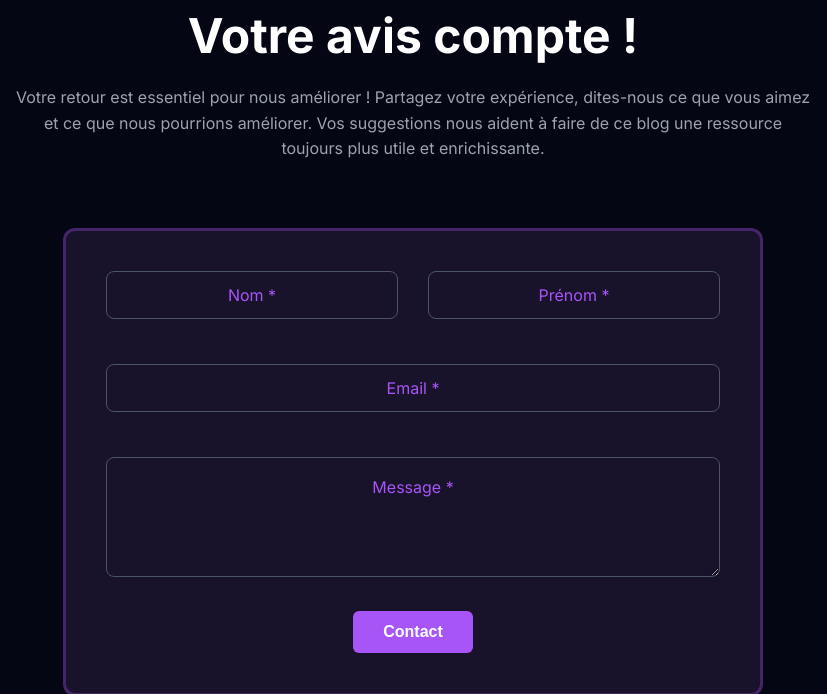
Test case: <Contact> › remercie le visiteur et vide le formulaire après l’envoi
The width and height of the screenshot is (827, 694).
Step 1. Type "Donday" into the field labelled "Nom *" → (252,295), box left=106, top=271, right=398, bottom=319
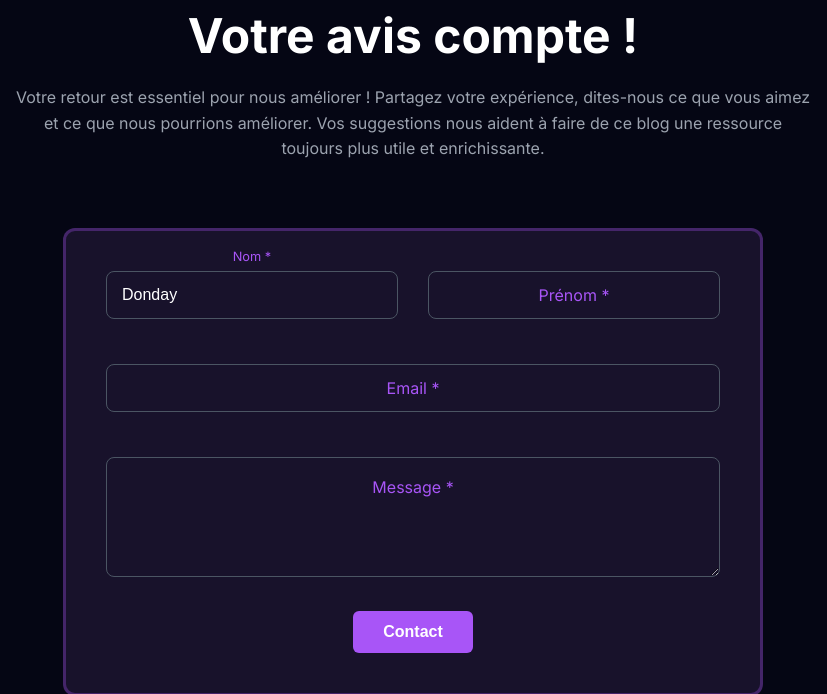
Step 2. Type "Logan" into the field labelled "Prénom *" → (574,295), box left=428, top=271, right=720, bottom=319
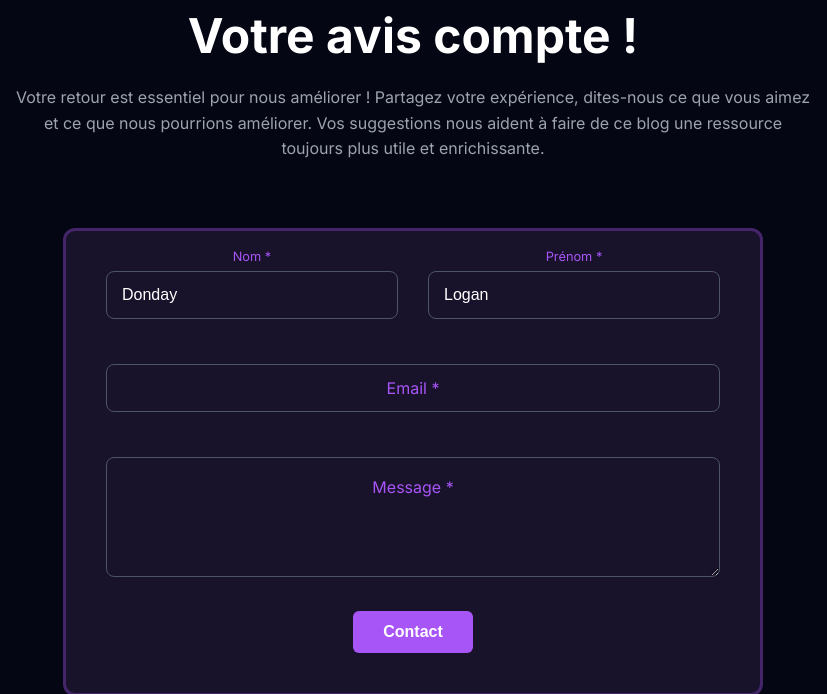
Step 3. Type "logan@weeb.fr" into the field labelled "Email *" → (413,388), box left=106, top=364, right=720, bottom=412
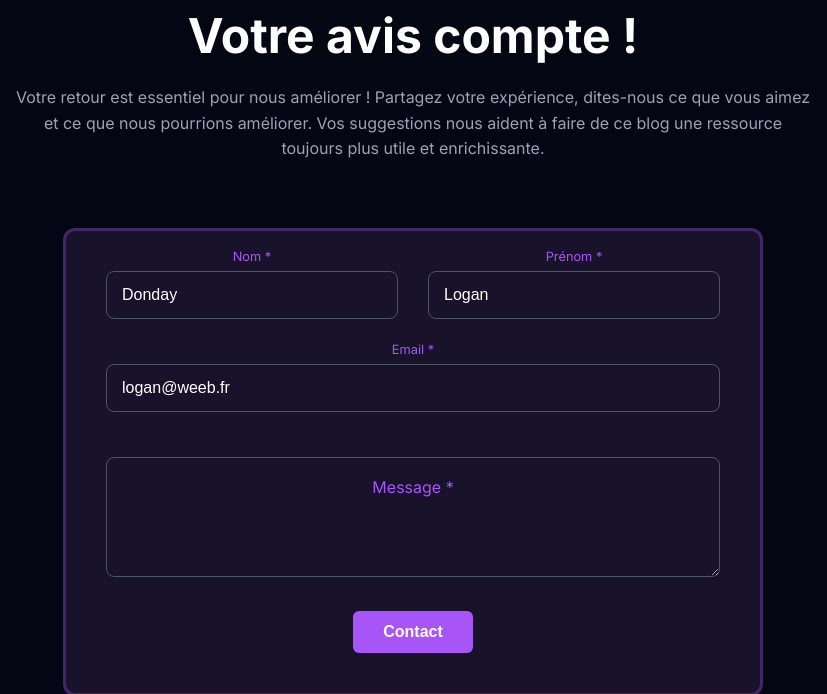
Step 4. Type "Bravo pour le blog, très clair." into the text box labelled "Message *" → (413,517), box left=106, top=457, right=720, bottom=577
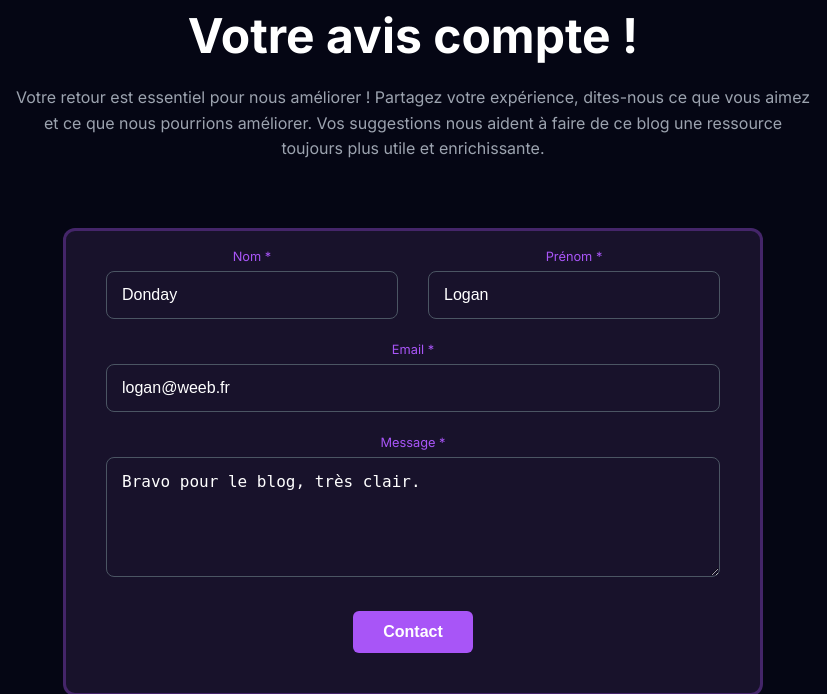
Step 5. Click the button "Contact" → (413,632), box left=353, top=611, right=473, bottom=653
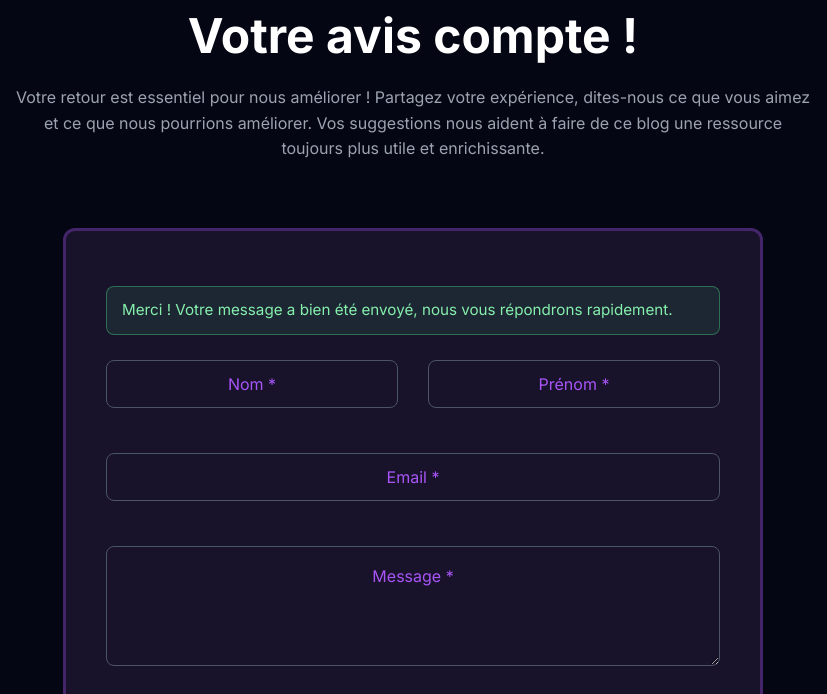
Expected: the text "Merci ! Votre message a bien été envoyé, nous vous répondrons rapidement." is shown, left=106, top=286, right=720, bottom=335
Expected: the text box labelled "Message *" is empty, left=106, top=546, right=720, bottom=666
